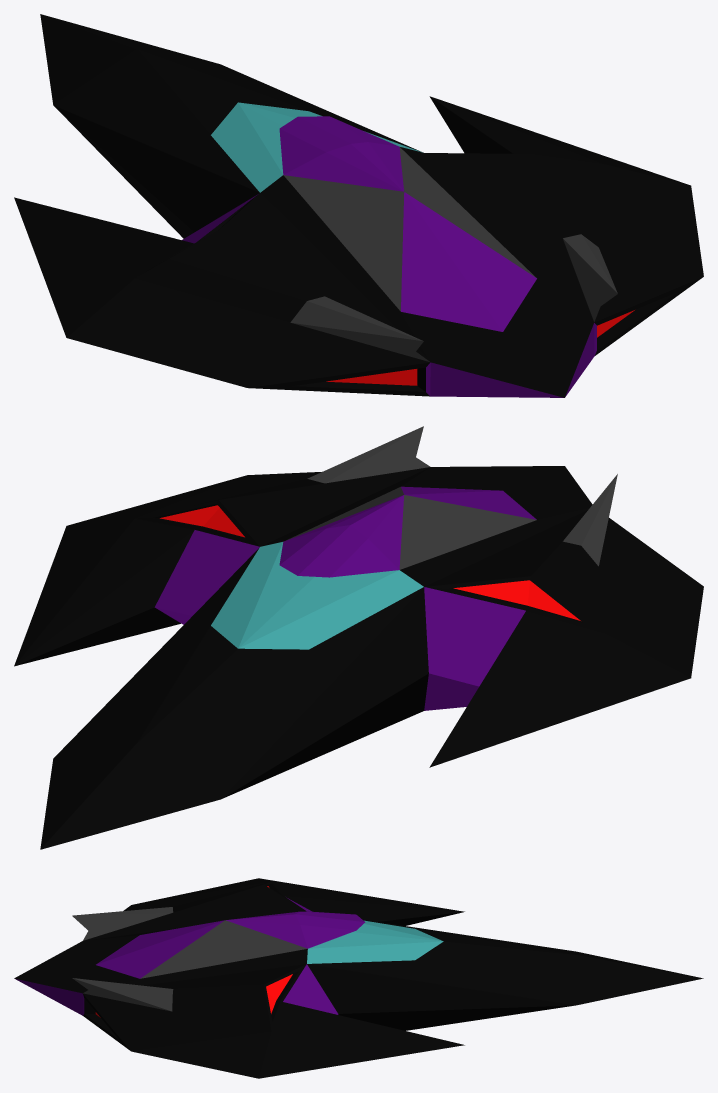
Rendered from PlayerShip.fbx.
3 renders of one model, top to bottom at view 1: azimuth 30°, elevation 25°; view 2: azimuth 150°, elevation 25°; view 3: azimuth 270°, elevation 25°, orthographic. The views are drawn at different scales.
Visible parts, largest first — view 1: Circle; view 2: Circle; view 3: Circle.
Part boxes in pixels (box(x1,y1,x2,y2)): Circle: box(14, 14, 703, 397); Circle: box(14, 426, 703, 849); Circle: box(14, 878, 703, 1078).
Size of the model in its own units: 298 by 79.9 by 434.
